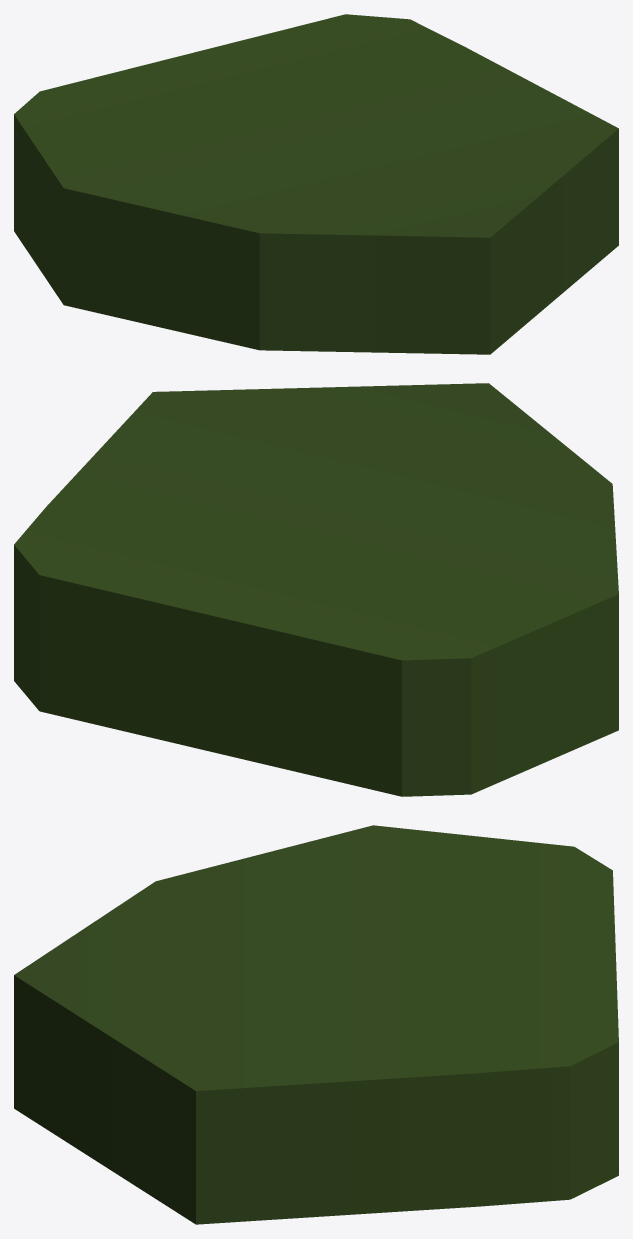
Rendered from Tile_07.fbx.
3 renders of one model, top to bottom at view 1: azimuth 30°, elevation 25°; view 2: azimuth 150°, elevation 25°; view 3: azimuth 270°, elevation 25°, orthographic. The views are drawn at different scales.
Visible parts, largest first — view 1: Tile_07; view 2: Tile_07; view 3: Tile_07.
Part boxes in pixels (bbox=[...]): Tile_07: bbox=[14, 14, 618, 354]; Tile_07: bbox=[14, 383, 618, 796]; Tile_07: bbox=[14, 825, 618, 1224].
Bounding box in the file's own units: 0.3925 × 0.0919 × 0.3774.
